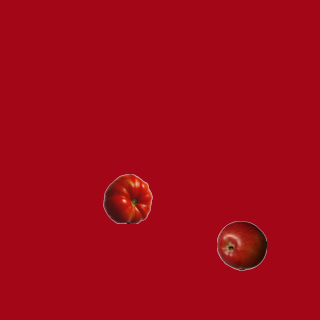Apple Braeburn: (216, 220, 266, 270)
Tomato 3: (102, 173, 152, 223)
